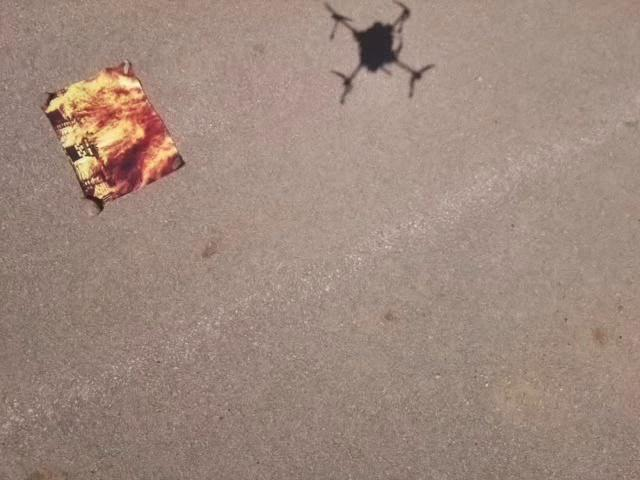fire-poster: (39, 57, 186, 214)
